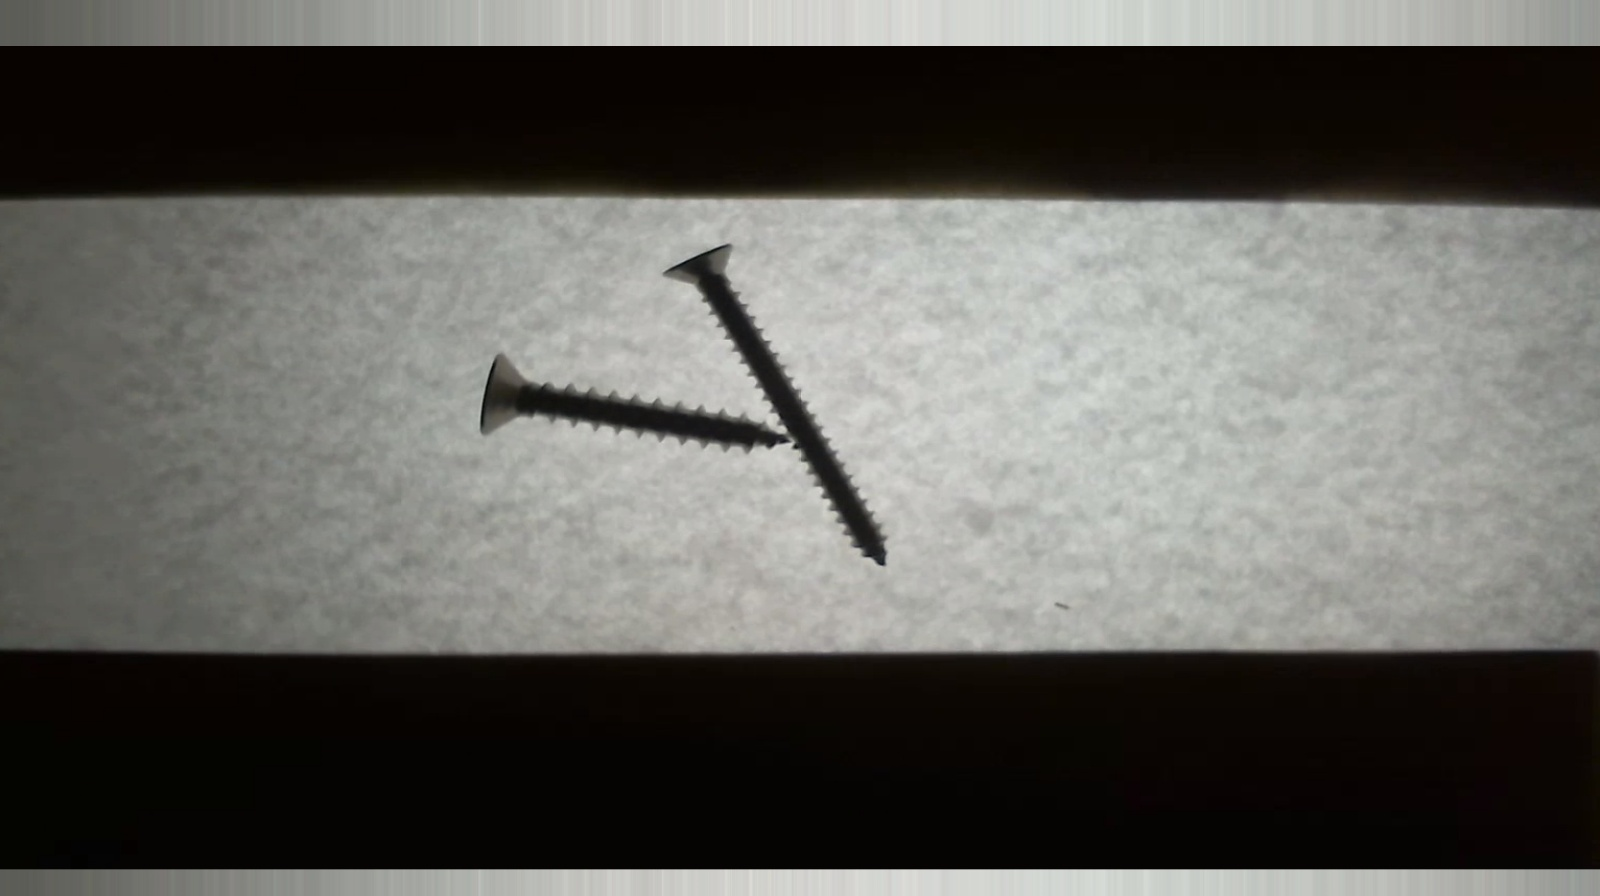S001: (464, 344, 796, 452)
S002: (655, 236, 904, 572)
